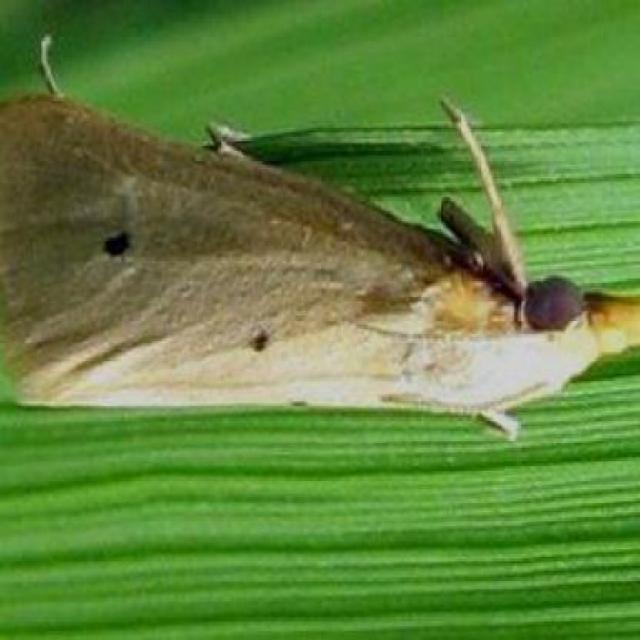stem-borer: (0, 85, 640, 426)
